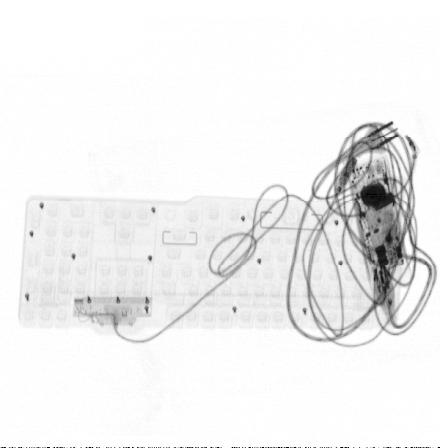Lighter: (378, 204, 404, 268)
